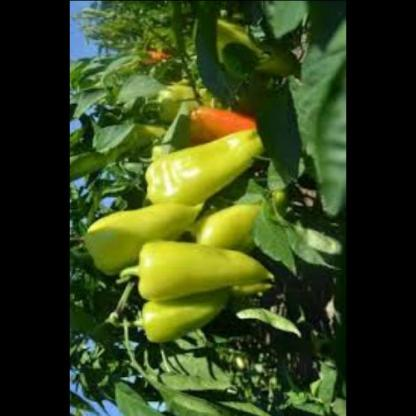bell pepper: (72, 197, 213, 279), (136, 126, 259, 216), (128, 228, 267, 303), (130, 281, 237, 355)
